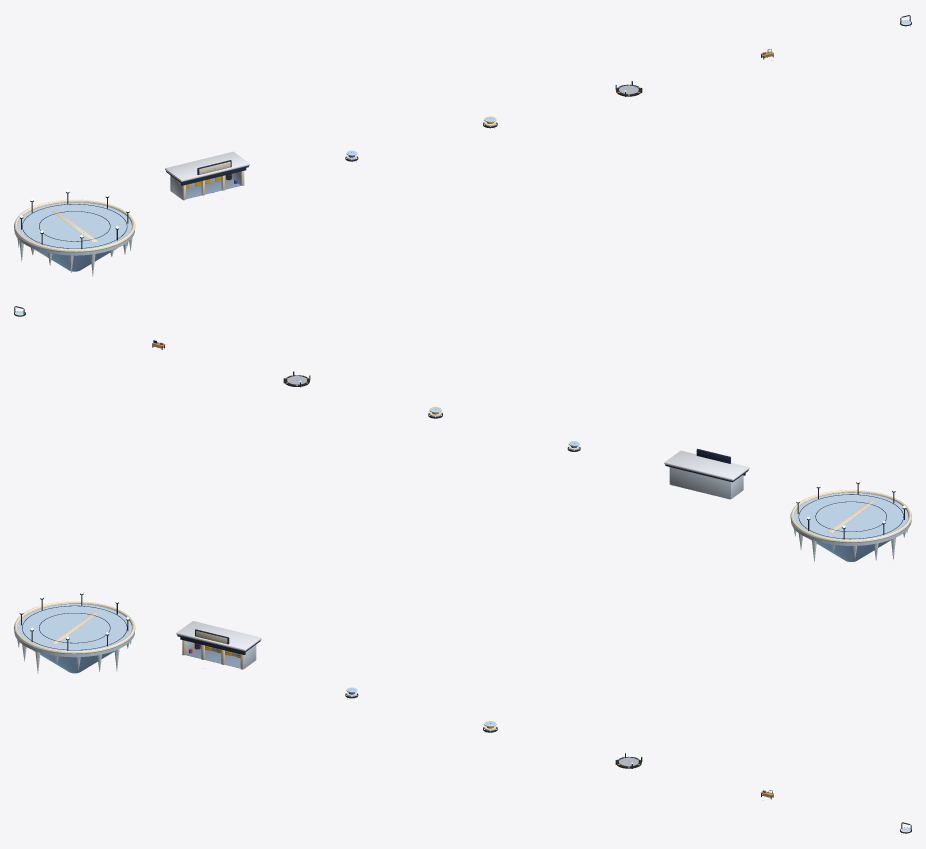
The model's file is GarageKit.fbx.
3 renders of one model, top to bottom at view 1: azimuth 30°, elevation 25°; view 2: azimuth 150°, elevation 25°; view 3: azimuth 330°, elevation 25°, orthographic.
Visible parts, largest first — view 1: GarageBase__Floor__CFE8FFSP, GarageHall__RoofSnow__F4F8FFSP, GarageBase__Rim__FFF1D6SP, GarageBase__Rock__7FA6C8SP; view 2: GarageBase__Floor__CFE8FFSP, GarageHall__RoofSnow__F4F8FFSP, GarageHall__BackWall__DCEBFASP, GarageBase__Rim__FFF1D6SP, GarageBase__Rock__7FA6C8SP; view 3: GarageBase__Floor__CFE8FFSP, GarageHall__RoofSnow__F4F8FFSP, GarageBase__Rim__FFF1D6SP, GarageBase__Rock__7FA6C8SP.
Part boxes in pixels (x1,y1,x2,y2): GarageBase__Floor__CFE8FFSP: [14, 202, 134, 255]; GarageHall__RoofSnow__F4F8FFSP: [165, 151, 249, 181]; GarageBase__Rim__FFF1D6SP: [14, 199, 135, 252]; GarageBase__Rock__7FA6C8SP: [34, 248, 116, 271]; GarageBase__Floor__CFE8FFSP: [791, 492, 911, 545]; GarageHall__RoofSnow__F4F8FFSP: [664, 450, 749, 480]; GarageHall__BackWall__DCEBFASP: [669, 467, 731, 499]; GarageBase__Rim__FFF1D6SP: [790, 490, 911, 542]; GarageBase__Rock__7FA6C8SP: [809, 539, 891, 561]; GarageBase__Floor__CFE8FFSP: [14, 604, 134, 657]; GarageHall__RoofSnow__F4F8FFSP: [176, 621, 261, 651]; GarageBase__Rim__FFF1D6SP: [14, 601, 135, 653]; GarageBase__Rock__7FA6C8SP: [33, 650, 114, 673].
Bounding box in the file's own units: 578 × 44.4 × 68.4.
